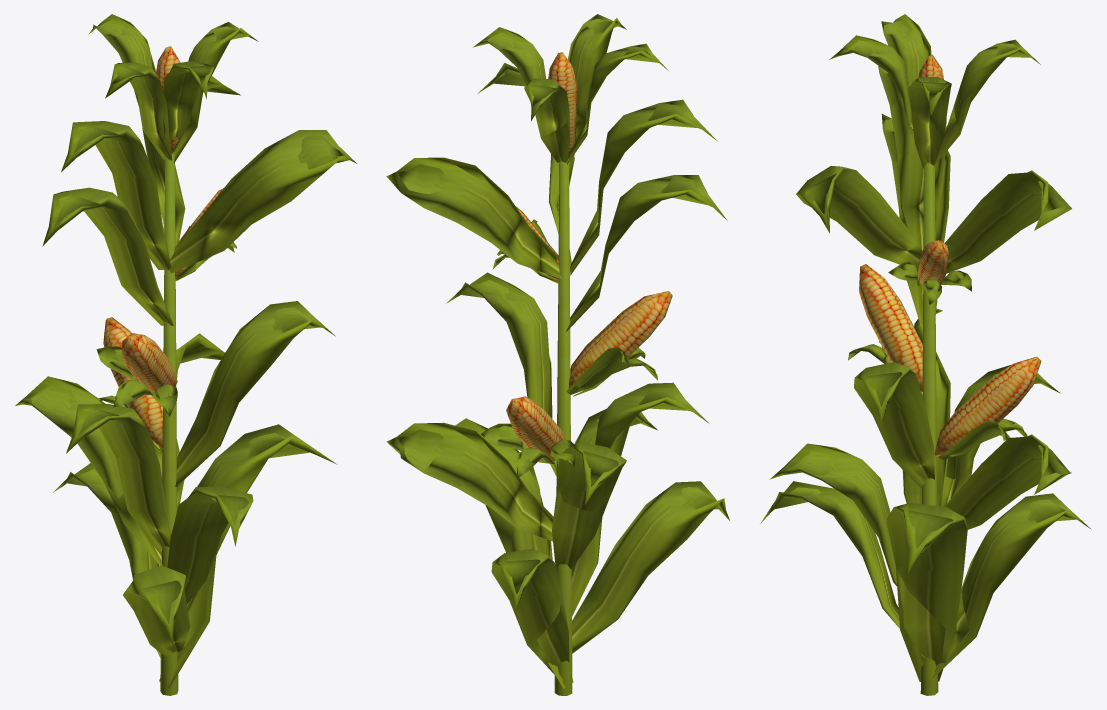
File: corn_a.glb
3 views of the same model, side by side, from view 1: azimuth 30°, elevation 25°; view 2: azimuth 150°, elevation 25°; view 3: azimuth 270°, elevation 25° (orthographic).
Parts seen in each view (by area): view 1: Circle_020; view 2: Circle_020; view 3: Circle_020.
Part boxes in pixels (box(x1,y1,x2,y2)): Circle_020: box(15, 14, 356, 695); Circle_020: box(386, 14, 729, 695); Circle_020: box(760, 14, 1091, 695).
Size of the model in its own units: 1.07 by 2.2 by 1.02.
2 materials, 2 textured.
